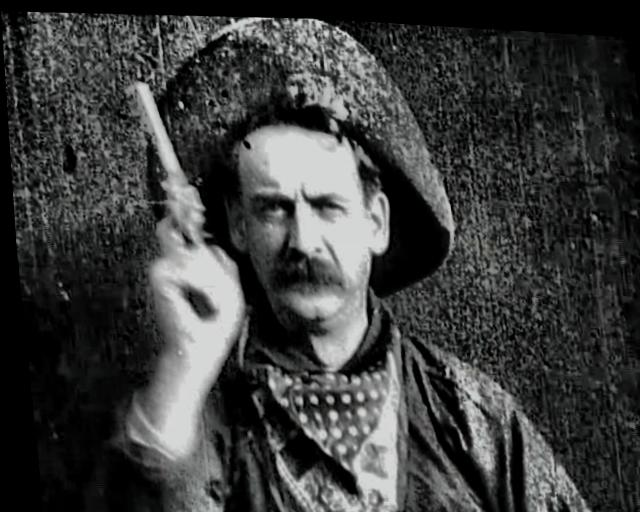pistol: (122, 78, 221, 322)
